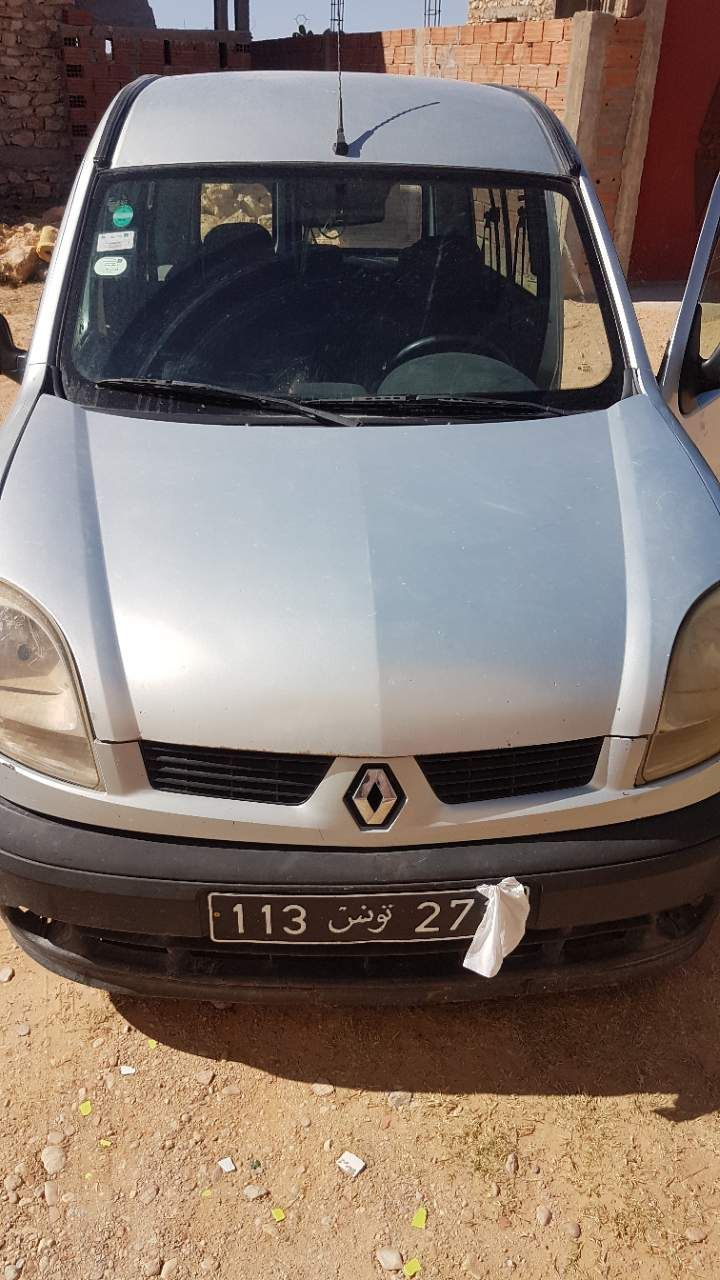LP: (209, 893, 487, 947)
